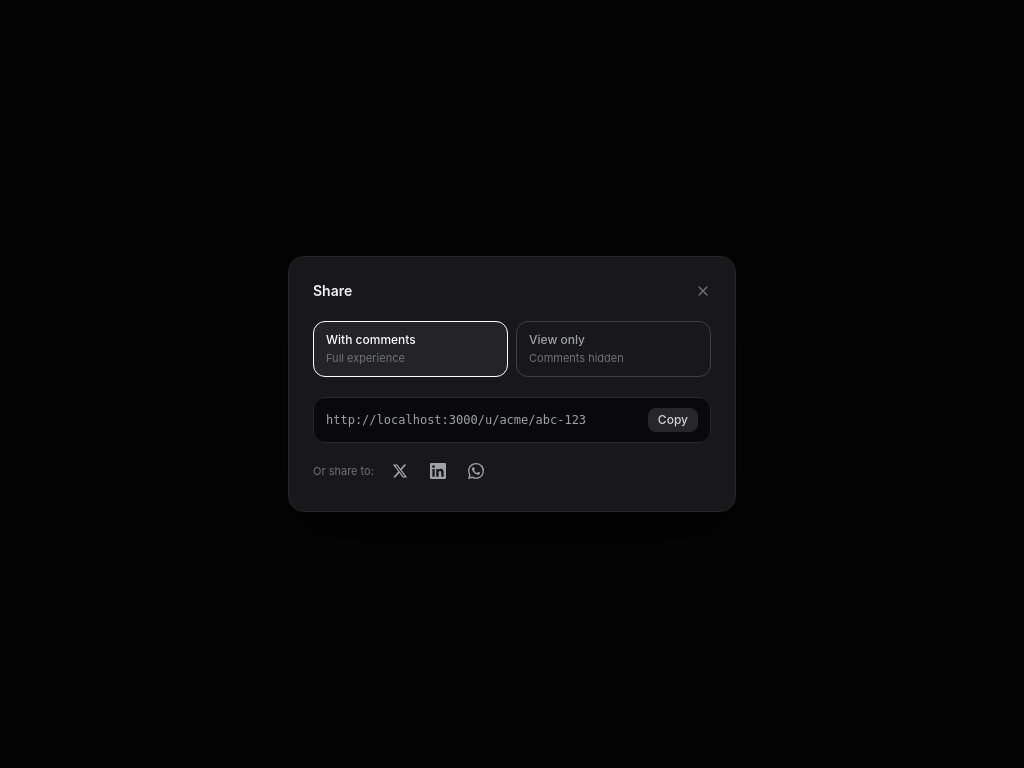
Test case: ShareModal › clicking View only adds ?mode=view to URL
Click the button "View only Comments hidden".
click(614, 349)  # box x1=516 y1=321 x2=711 y2=377
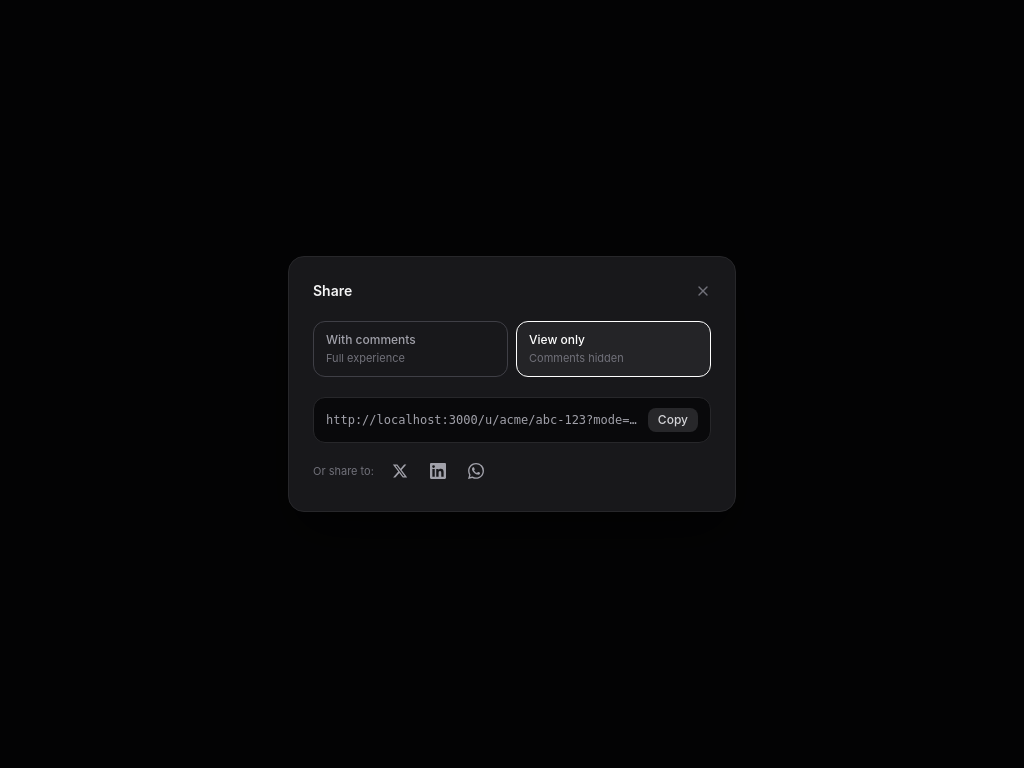
Check: the text with class "font-mono" reads "http://localhost:3000/u/acme/abc-123?mode=view", box x1=326 y1=413 x2=658 y2=427
